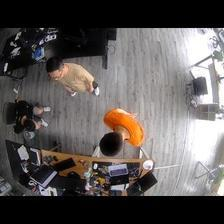normal: (99, 106, 146, 157), (46, 56, 100, 98), (7, 99, 49, 131)
